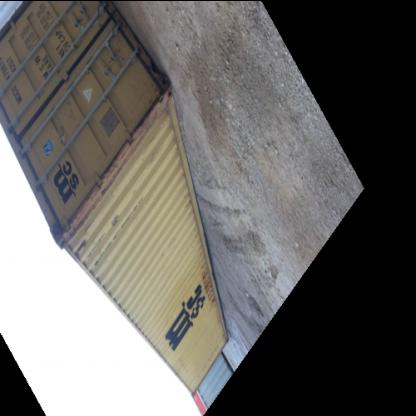Damage: (61, 177, 104, 259), (129, 84, 161, 150), (194, 260, 216, 308), (172, 350, 192, 374), (108, 208, 120, 230)
